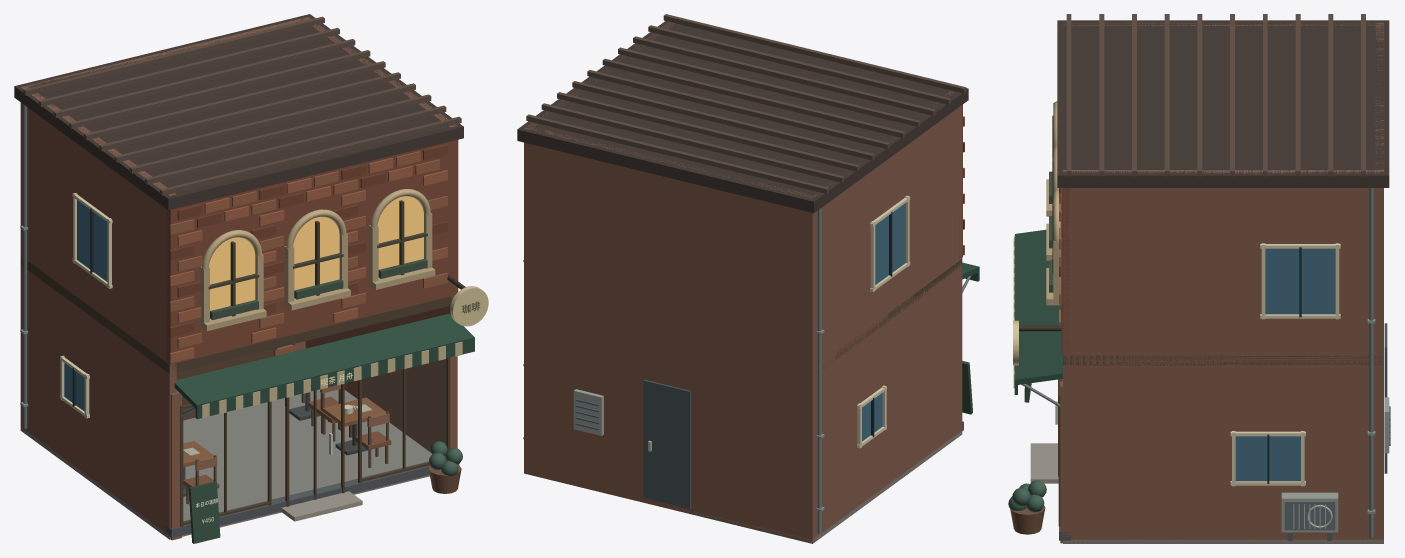
The model's file is cafe.glb.
3 views of the same model, side by side, from view 1: azimuth 30°, elevation 25°; view 2: azimuth 150°, elevation 25°; view 3: azimuth 270°, elevation 25° (orthographic). The views are drawn at different scales.
Visible parts, largest first — view 1: 月舟昭和喫茶, 木椅 (×2); view 2: 月舟昭和喫茶; view 3: 月舟昭和喫茶, 室外空调机.
Part boxes in pixels (x1=…): 月舟昭和喫茶: x1=14, y1=14, x2=488, y2=543; 木椅 (×2): x1=183, y1=411, x2=391, y2=504; 月舟昭和喫茶: x1=517, y1=14, x2=979, y2=543; 月舟昭和喫茶: x1=1008, y1=14, x2=1390, y2=543; 室外空调机: x1=1281, y1=492, x2=1338, y2=540.
Size of the model in its own units: 6.21 by 6.72 by 6.19.
68 materials, 4 textured.
